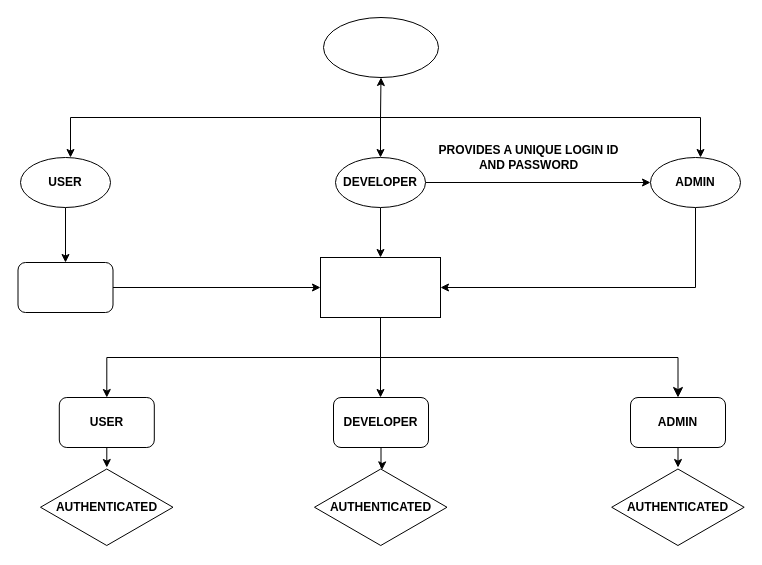
Some shapes in this 762 by 565 pixel diagram are drawn without their labels. Each missing label, with the centre of its shape:
EVENT LINK: pixel 380 47
LOGIN: pixel 380 287
SIGN UP: pixel 65 287
